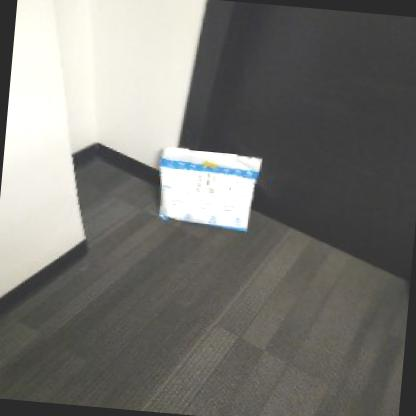plastic_bag: (153, 144, 264, 234)
